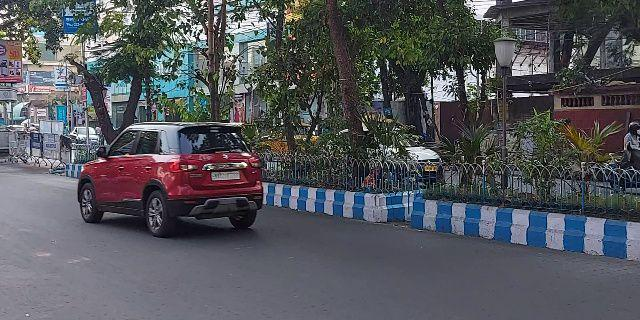Car: (71, 117, 265, 243)
